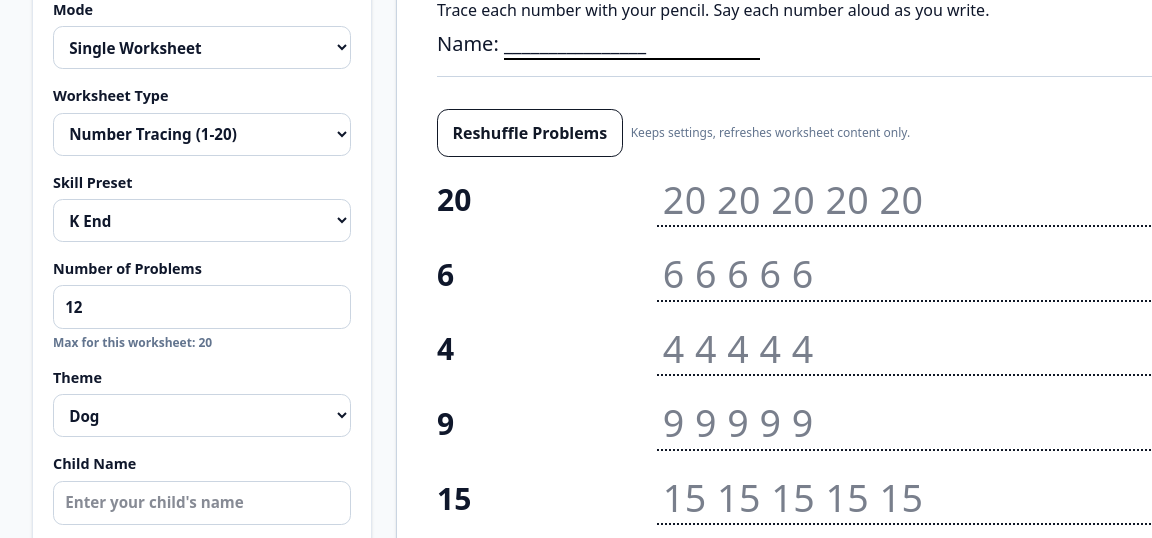
Scenario: app regression coverage › answer key page appears when enabled for supported types
The width and height of the screenshot is (1152, 538).
Select "Beginning Addition" in the dropdown labelled "Worksheet Type" at (202, 134), box [53,113,351,156]
(page scrolled)
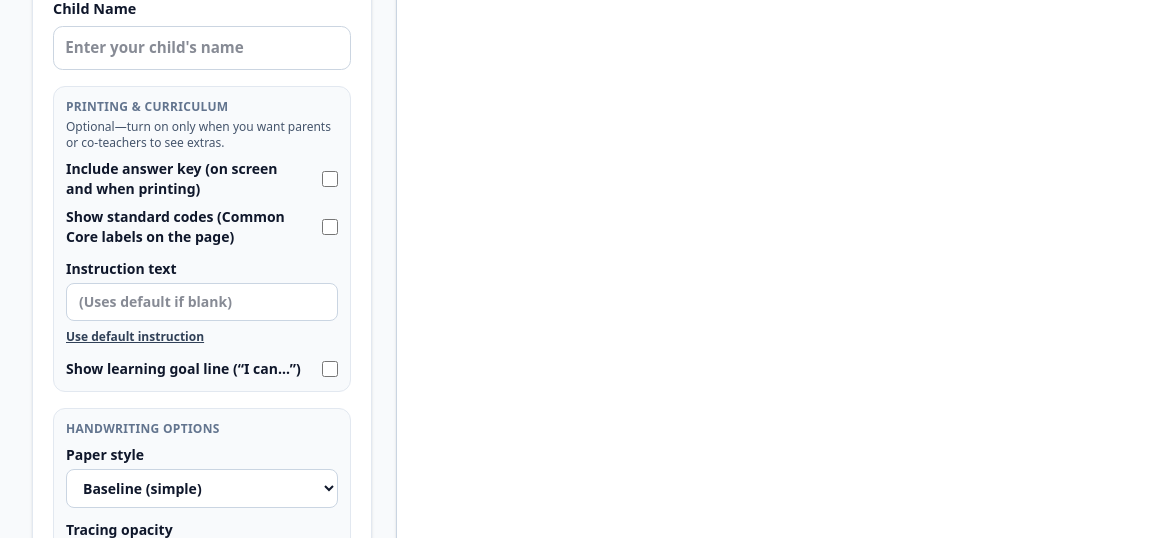
Click the checkbox named "Include answer key on screen and when printing" at (330, 178), box [322,170,338,186]
(page scrolled)
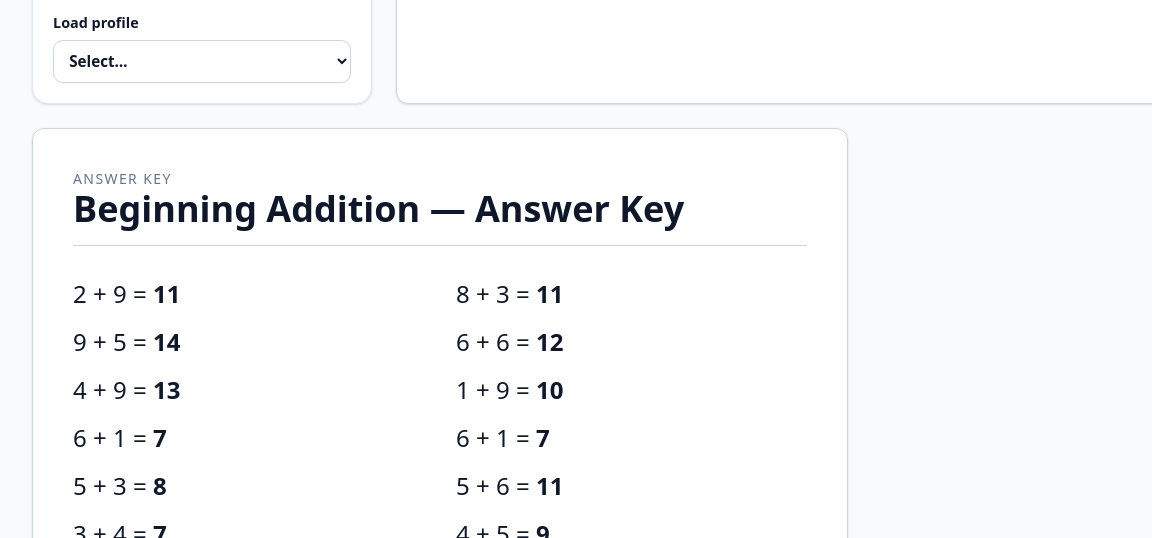
expect the text "Answer Key" is shown: met, box [73,169,172,188]
